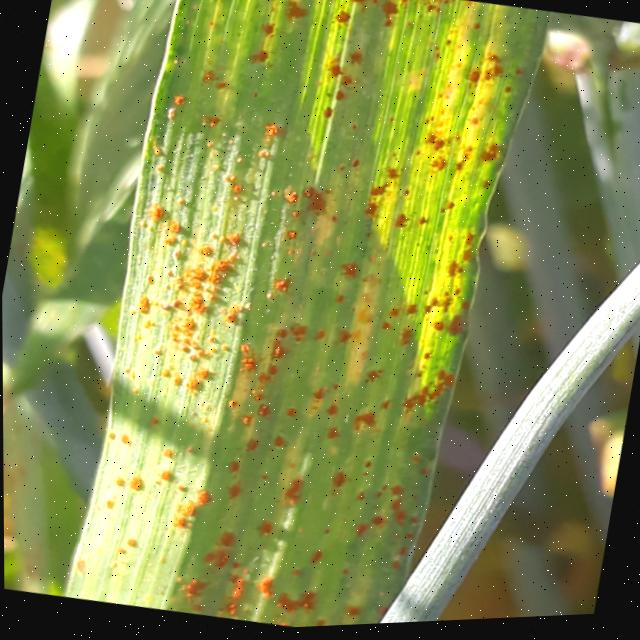orang_rust: (52, 0, 561, 638)
